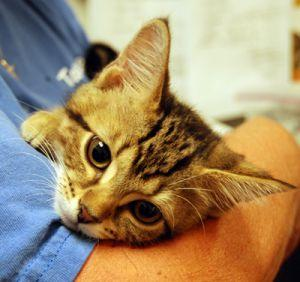bengal: (35, 13, 298, 247)
